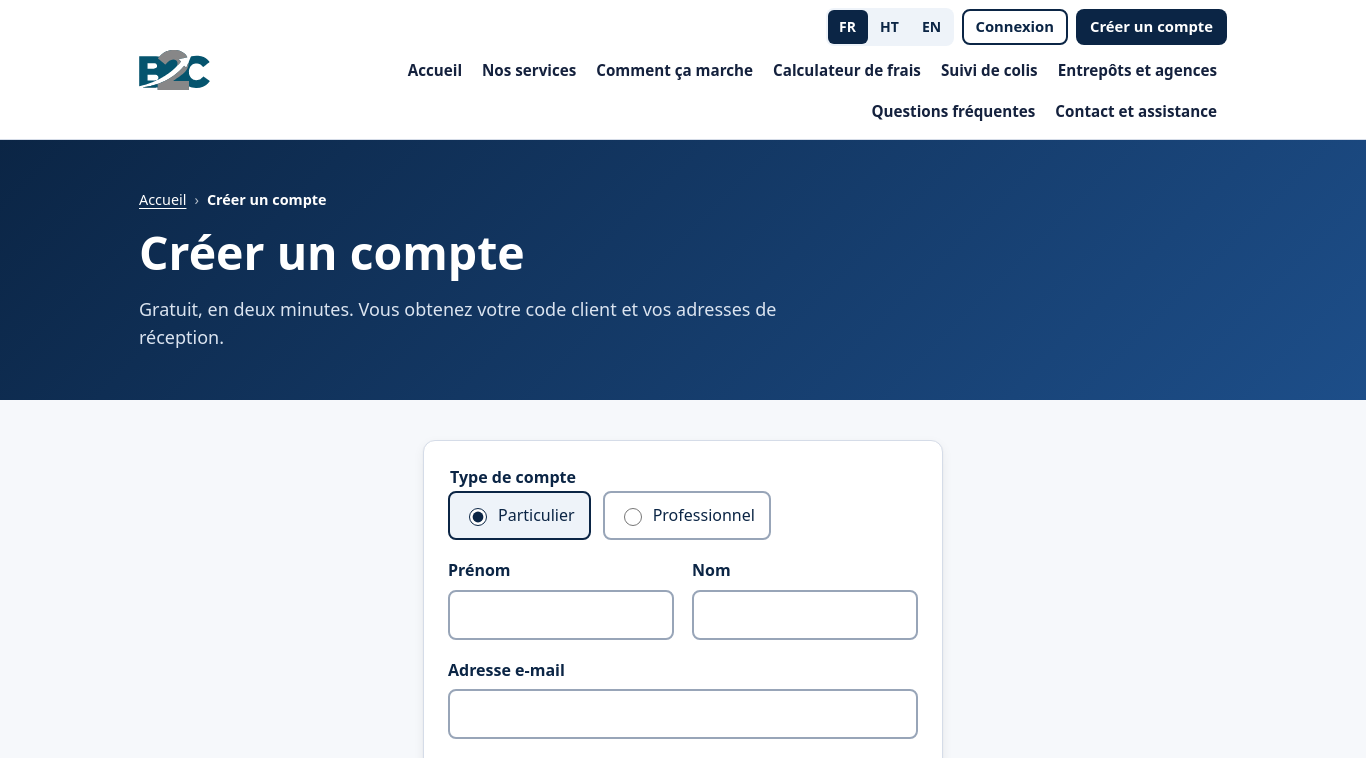
Test: formulaire d’inscription › le champ « raison sociale » n’apparaît que pour un compte professionnel
The width and height of the screenshot is (1366, 758).
Expected: the field labelled "Prénom" is shown, [448,590,674,640]
Expected: the field labelled "Raison sociale" is not shown
Click the radio button labelled "Professionnel".
click(633, 517)  # box [624,508,642,526]
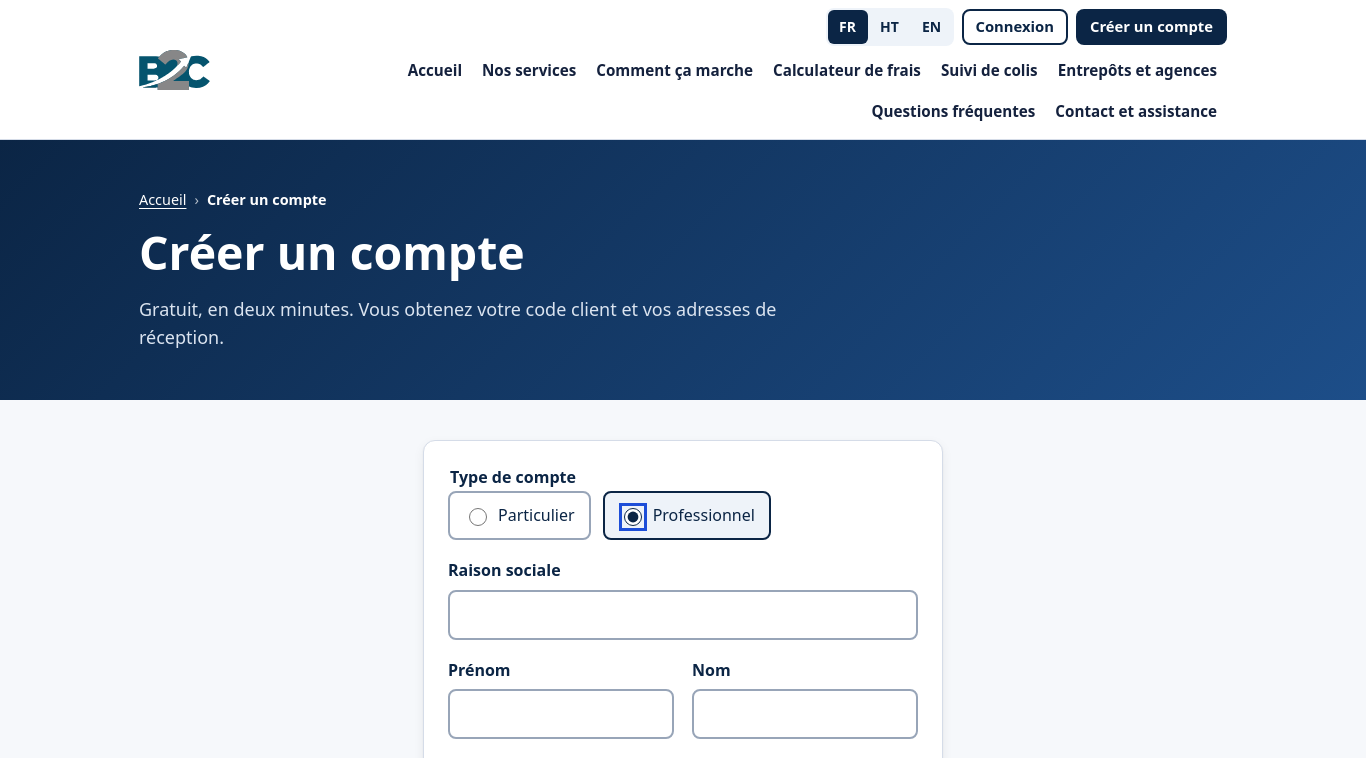
Expected: the field labelled "Raison sociale" is shown, [448,590,918,640]
